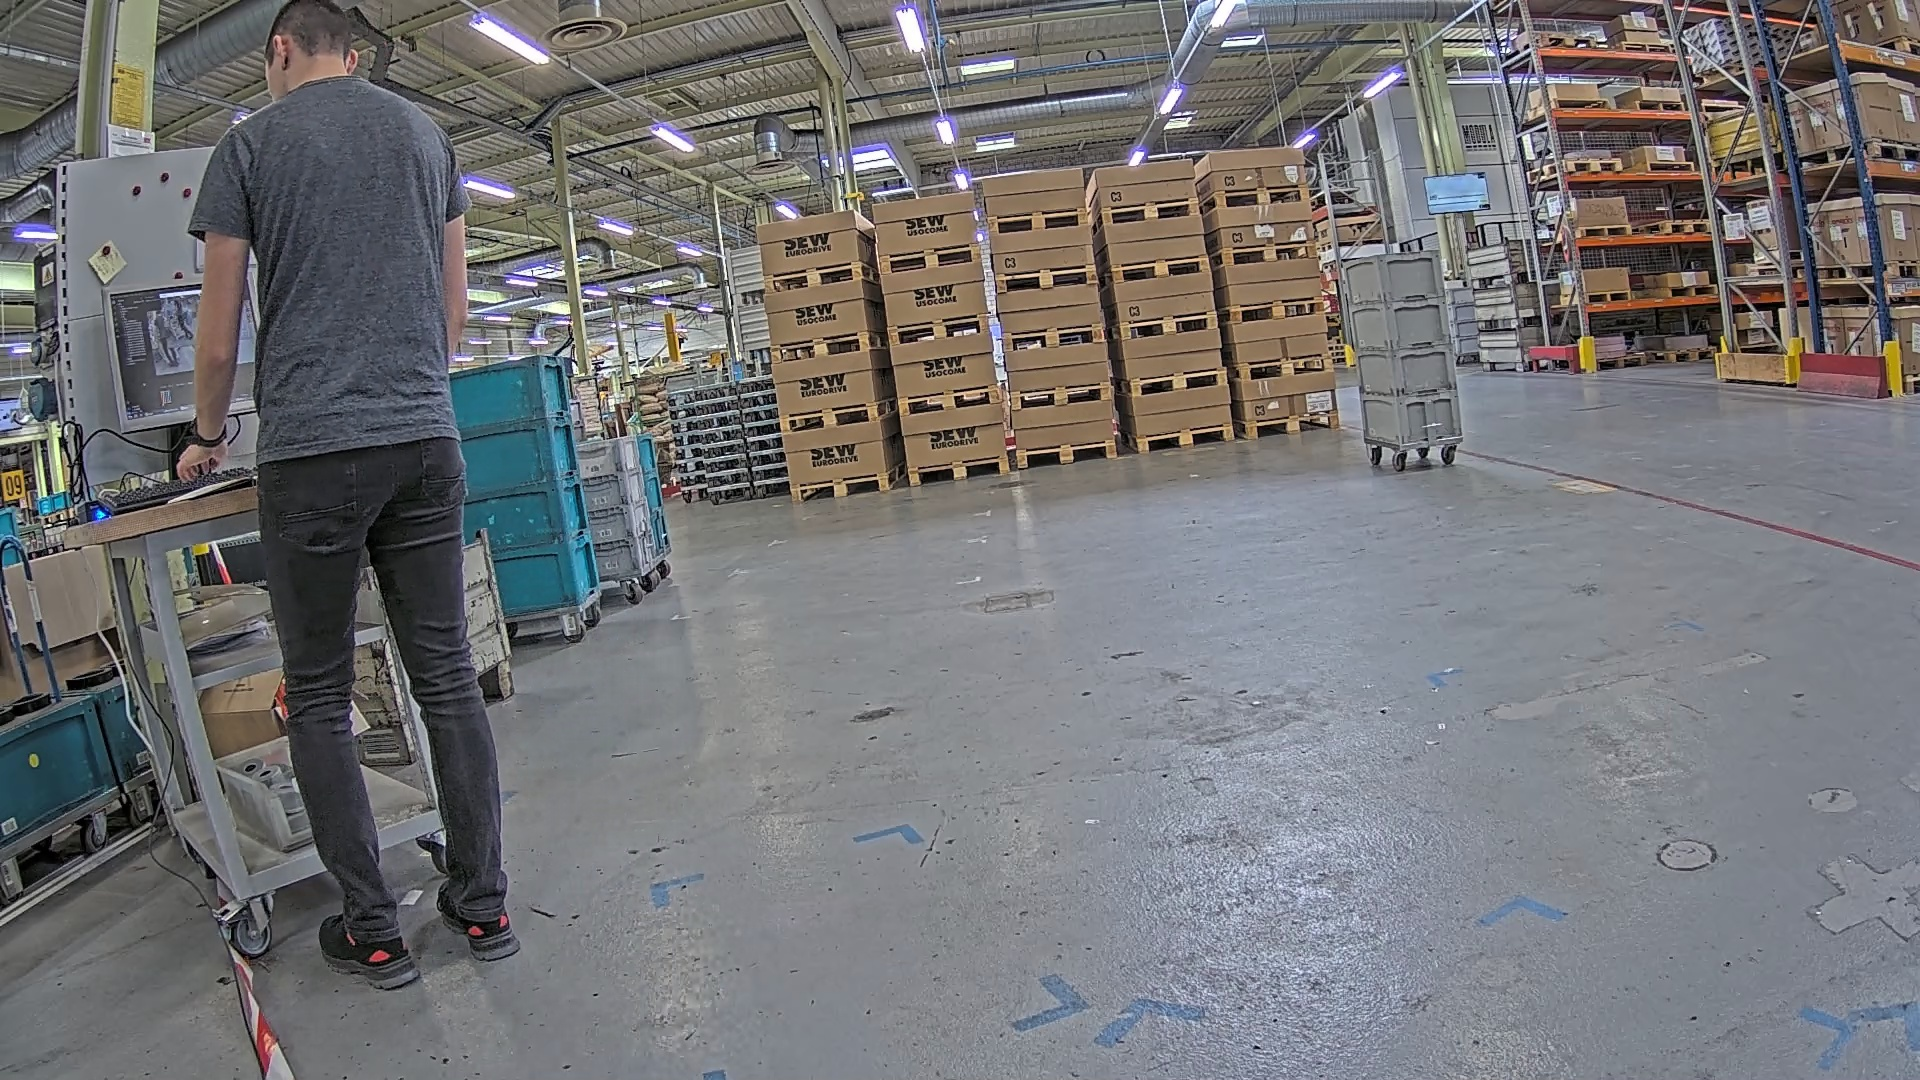4G: (1374, 247, 1468, 450)
